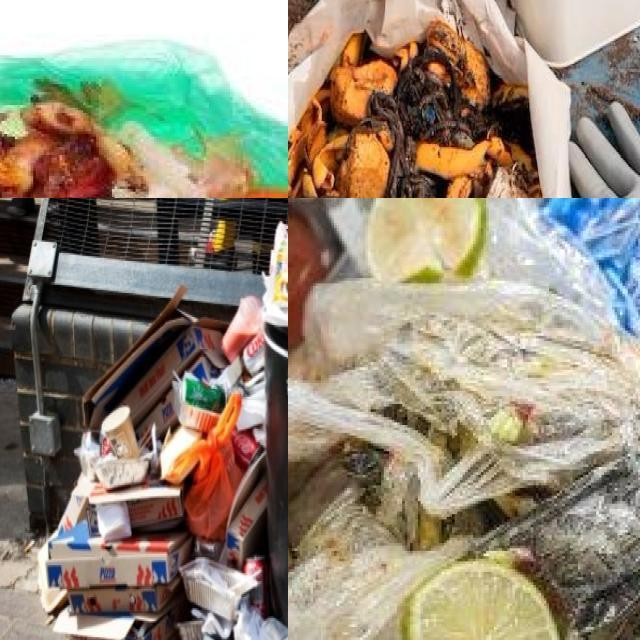Disposable: (180, 558, 256, 620), (176, 400, 219, 432), (259, 617, 288, 640)
Garbage: (288, 198, 640, 640), (39, 288, 288, 640), (288, 0, 640, 198), (0, 99, 288, 198)
Plastic_Bag: (166, 391, 242, 540)
can: (184, 374, 225, 412), (243, 556, 267, 617)
contaminated_waste: (288, 281, 640, 640)
